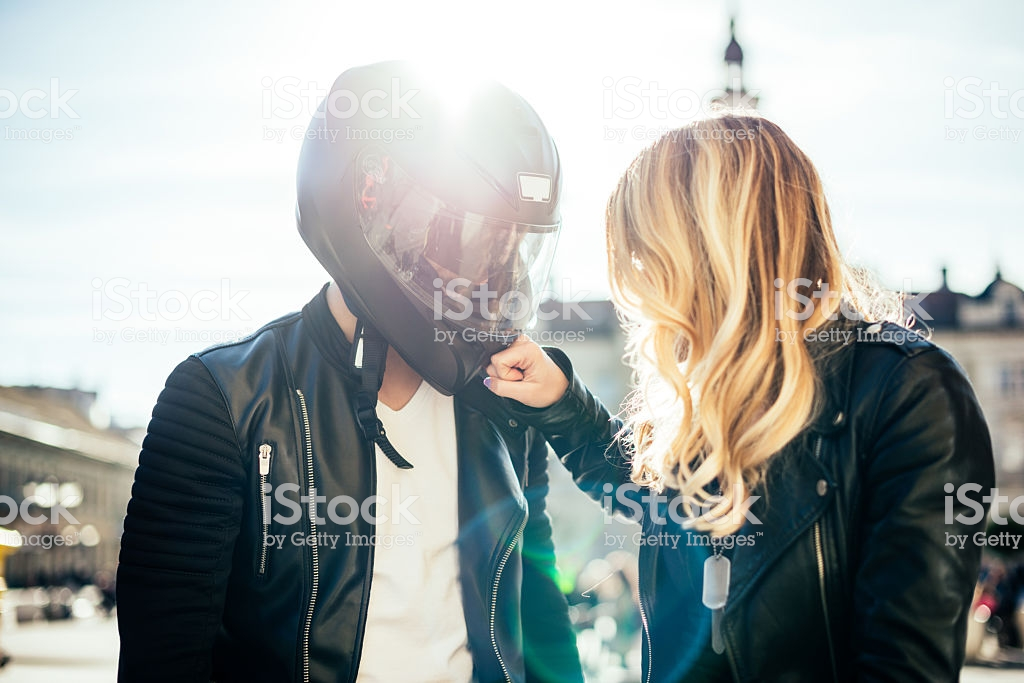helmet: (305, 56, 558, 374)
